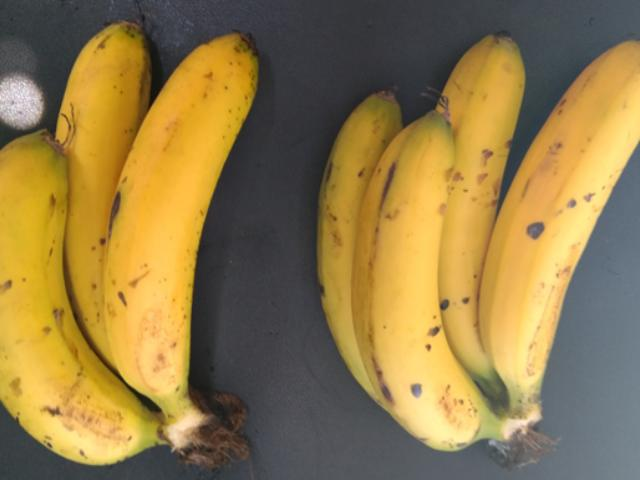ripe: (109, 28, 290, 424), (488, 43, 633, 412), (0, 132, 148, 468), (354, 116, 486, 456), (437, 47, 539, 351), (52, 15, 143, 304)
